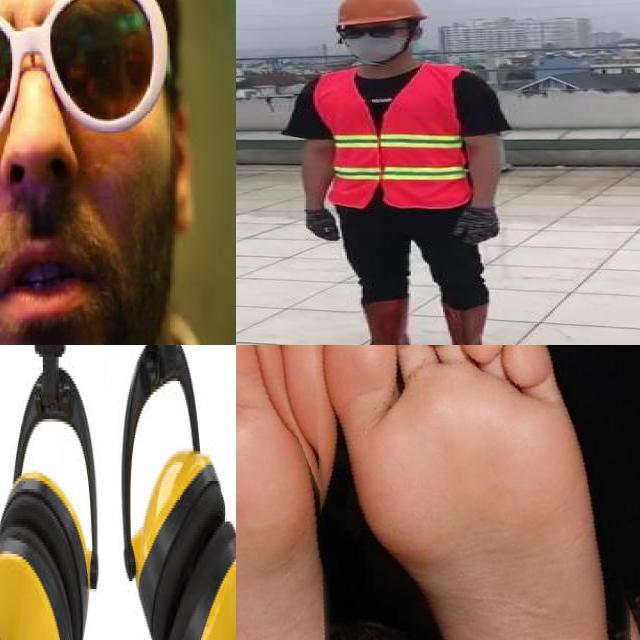Barefoots: (334, 345, 640, 640), (236, 345, 371, 640)
Ear-protection: (120, 345, 236, 640), (0, 345, 115, 640)
boots: (345, 297, 409, 345), (435, 301, 494, 345)
face_mask: (338, 21, 408, 61)
face_nomask: (0, 0, 145, 332)
glasses: (0, 0, 175, 157), (335, 22, 403, 42)
hand_glove: (450, 209, 502, 245), (300, 207, 342, 242)
head_helmet: (328, 0, 424, 26)
person: (289, 0, 516, 345)
vest: (315, 64, 475, 207)
